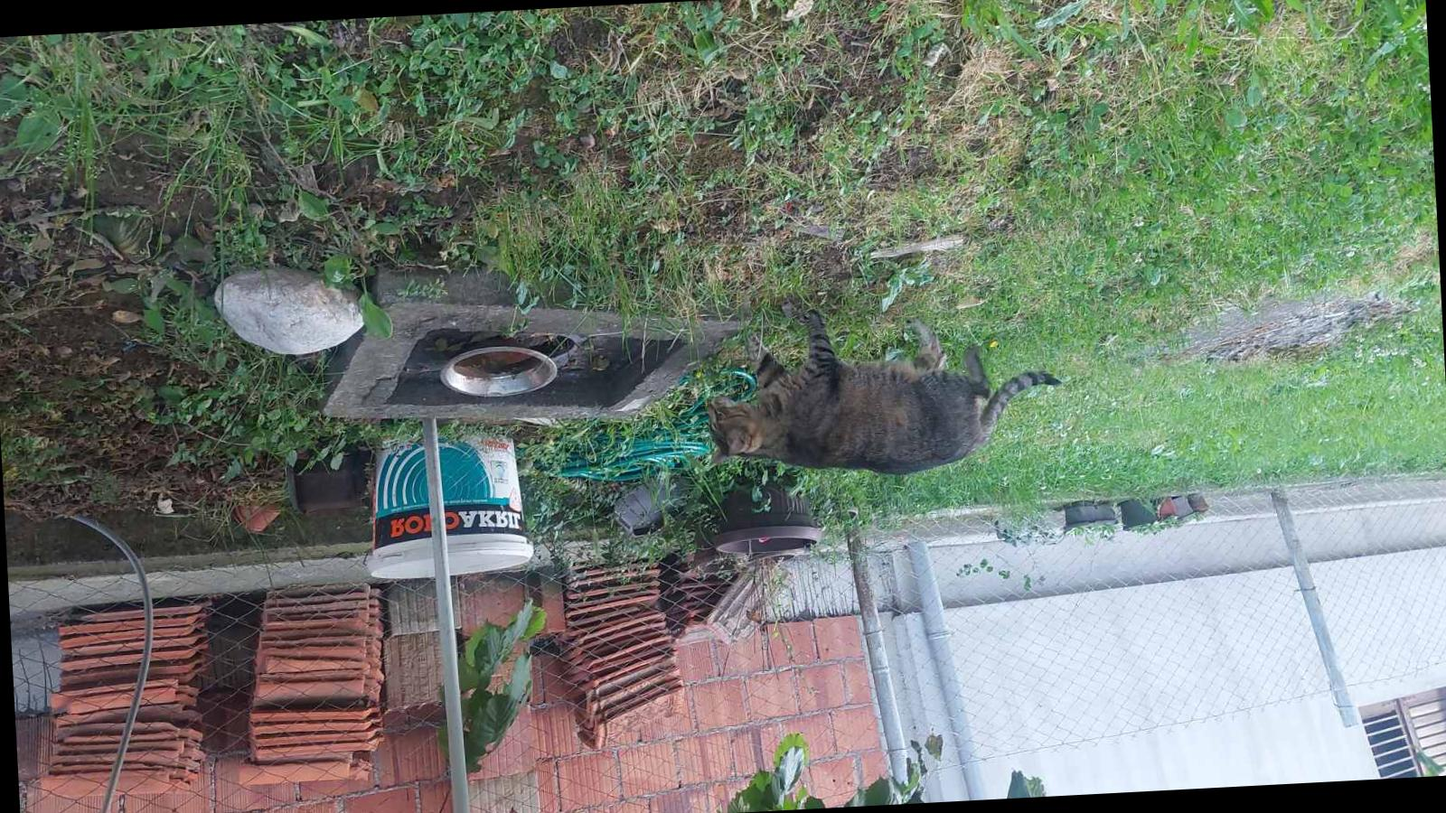macka: (701, 297, 1064, 485)
